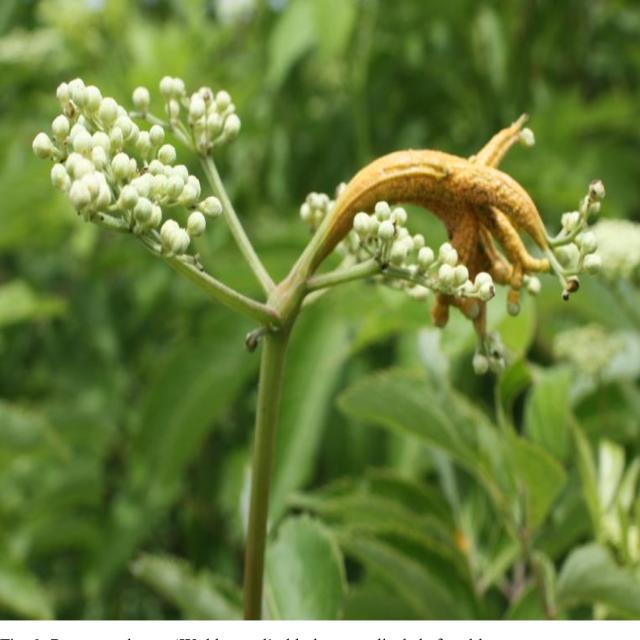Elderberry_rust: (323, 126, 598, 365)
